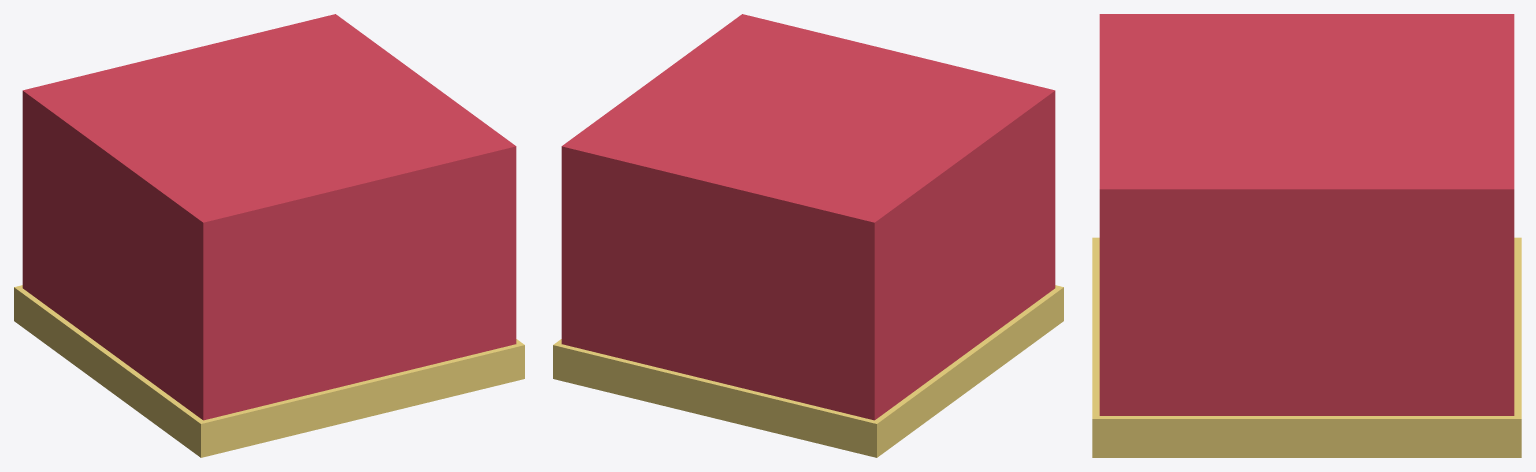
Rendered from sari_manga_sup.glb.
The picture shows the model from 3 angles, left to right: view 1: azimuth 30°, elevation 25°; view 2: azimuth 150°, elevation 25°; view 3: azimuth 270°, elevation 25°; orthographic projection. The views are drawn at different scales.
Parts seen in each view (by area): view 1: sari_manga_sup; view 2: sari_manga_sup; view 3: sari_manga_sup.
Boxes of the visible parts, left/top/right/bottom form: sari_manga_sup: left=14, top=14, right=524, bottom=457; sari_manga_sup: left=553, top=14, right=1063, bottom=457; sari_manga_sup: left=1092, top=14, right=1521, bottom=457.
Size of the model in its own units: 0.3 by 0.205 by 0.3.
